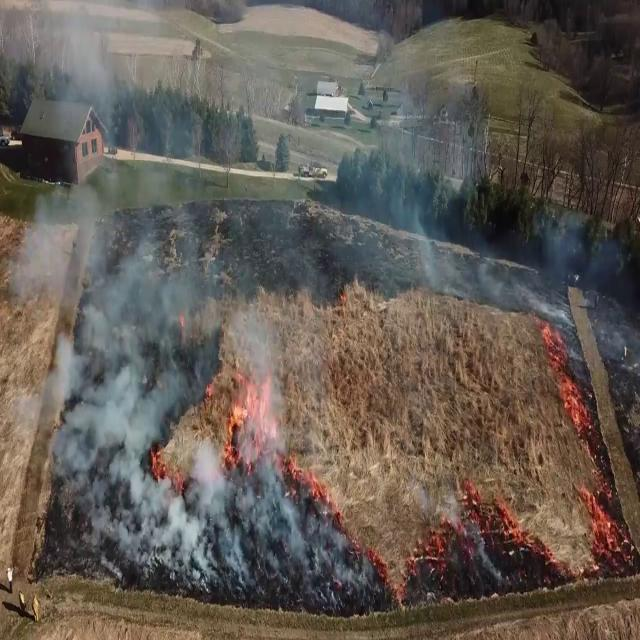Fire: (224, 350, 267, 469)
Smoke: (4, 31, 316, 586)
